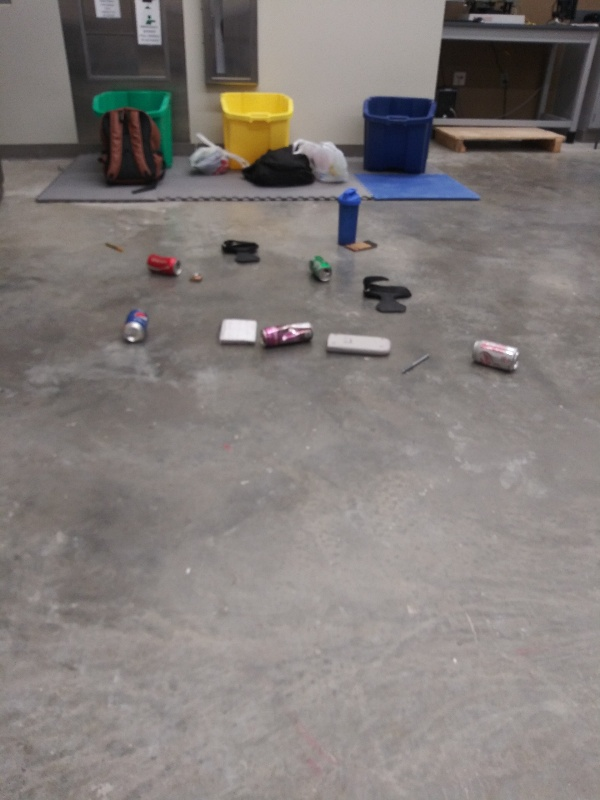can: (255, 317, 317, 354), (470, 339, 521, 375), (121, 303, 151, 346), (141, 250, 186, 278), (307, 251, 334, 286)
